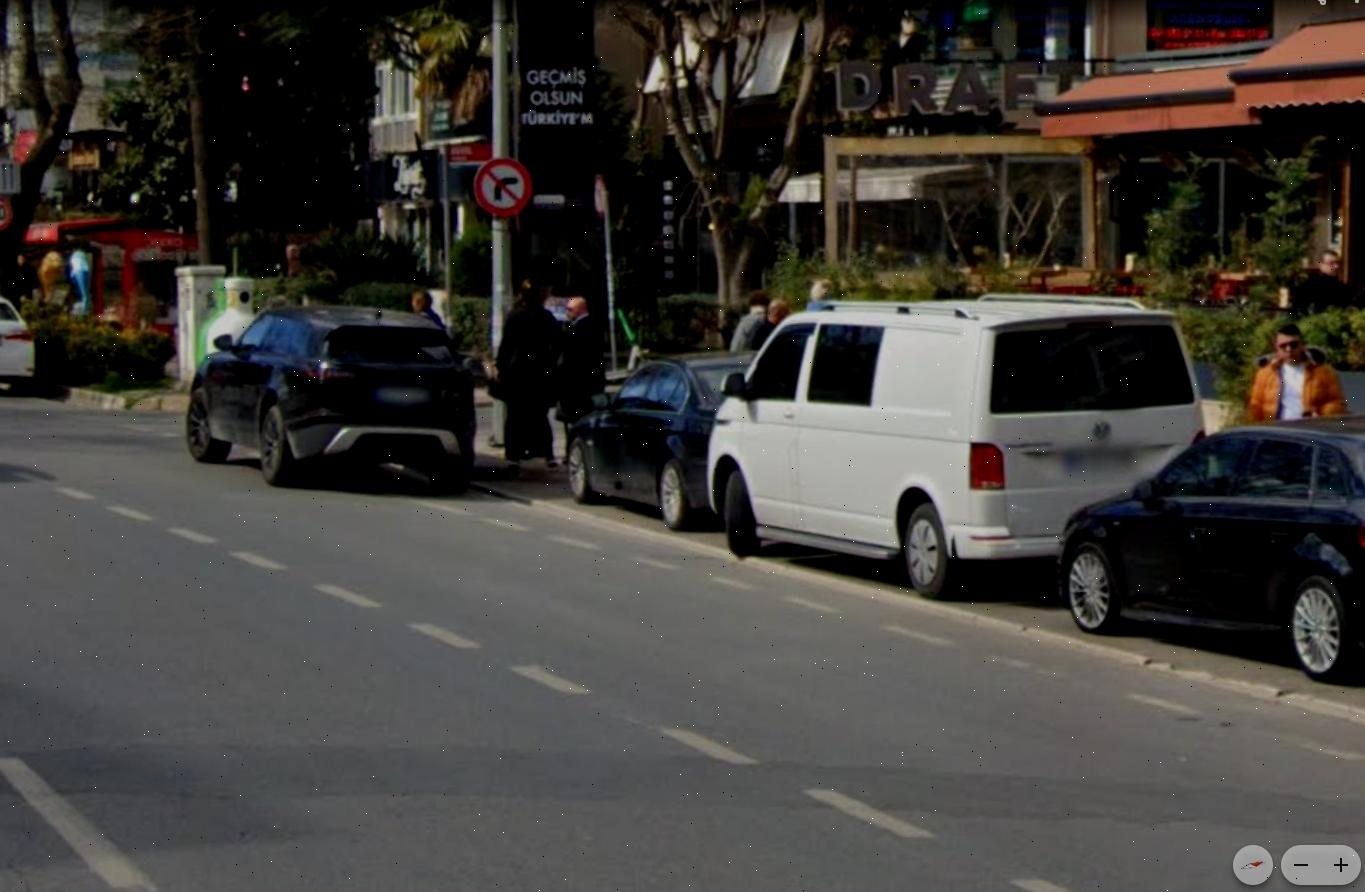rightturnsareforbidden: (474, 159, 532, 213)
